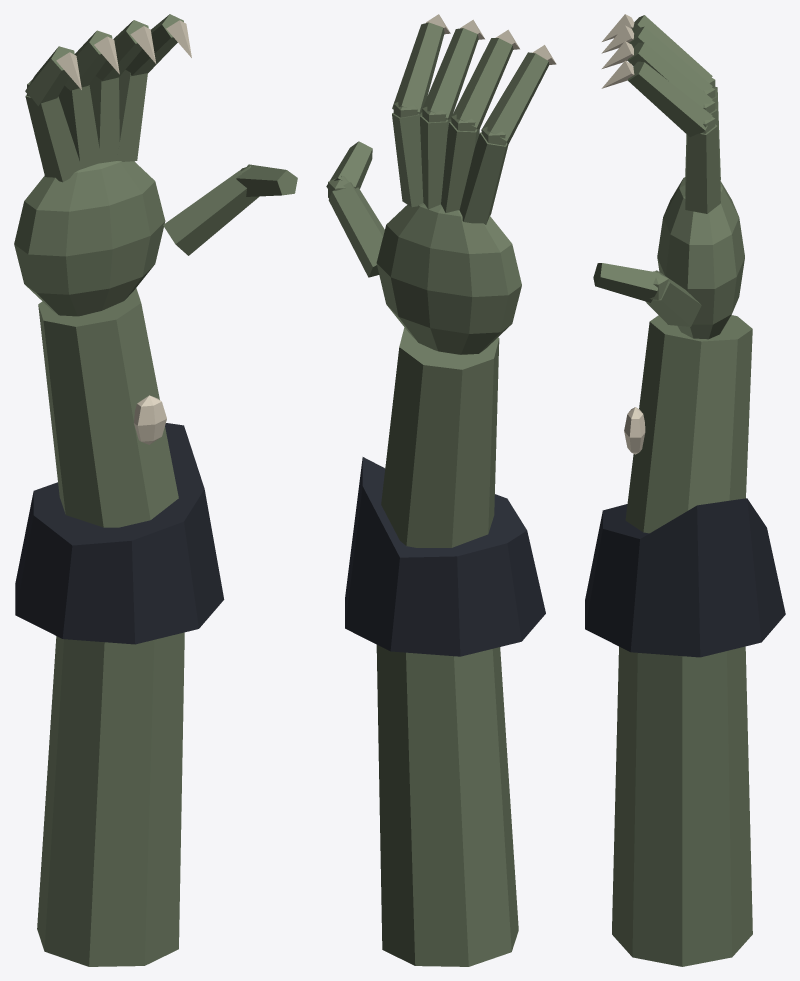
File: zombie_hand.glb
The picture shows the model from 3 angles, left to right: view 1: azimuth 30°, elevation 25°; view 2: azimuth 150°, elevation 25°; view 3: azimuth 270°, elevation 25°; orthographic projection. The views are drawn at different scales.
Visible parts, largest first — view 1: ZombieHand; view 2: ZombieHand; view 3: ZombieHand.
Part boxes in pixels (x1=…): ZombieHand: x1=14, y1=14, x2=297, y2=966; ZombieHand: x1=326, y1=14, x2=556, y2=966; ZombieHand: x1=585, y1=14, x2=785, y2=966.
Size of the model in its own units: 0.2719 by 1.05 by 0.2134.
